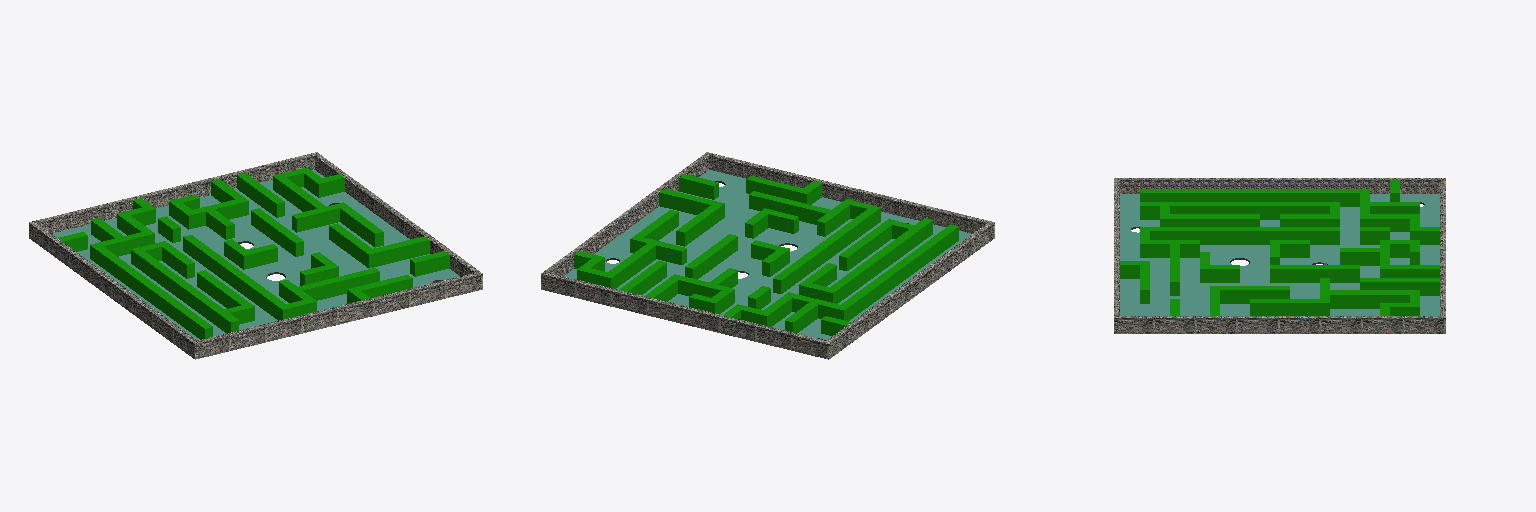
3 renders of one model, left to right at view 1: azimuth 30°, elevation 25°; view 2: azimuth 150°, elevation 25°; view 3: azimuth 270°, elevation 25°, orthographic.
Parts seen in each view (by area): view 1: Cube; view 2: Cube; view 3: Cube.
Boxes of the visible parts, <box> form: Cube: <box>29,152,482,359</box>; Cube: <box>541,152,994,359</box>; Cube: <box>1114,178,1445,333</box>.
Size of the model in its own units: 7.05 by 0.3687 by 7.05.
Materials: 4 (1 with a texture image).